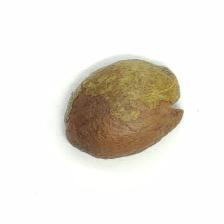NG: (65, 59, 185, 125)
